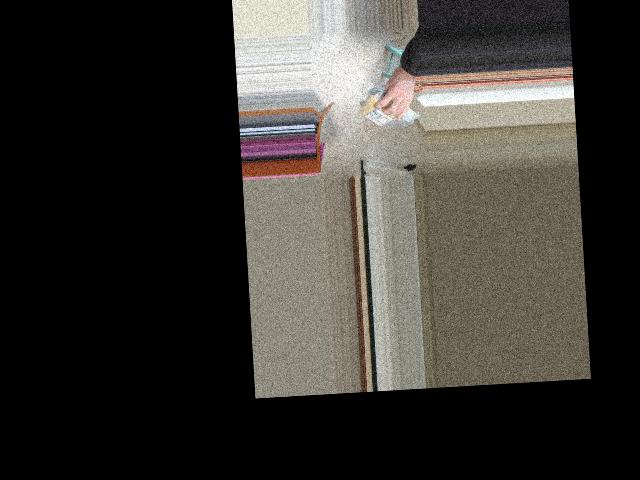cheese: (352, 95, 417, 126)
